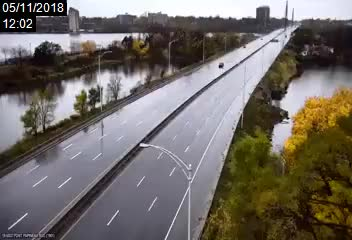personal_car: (218, 61, 224, 67)
